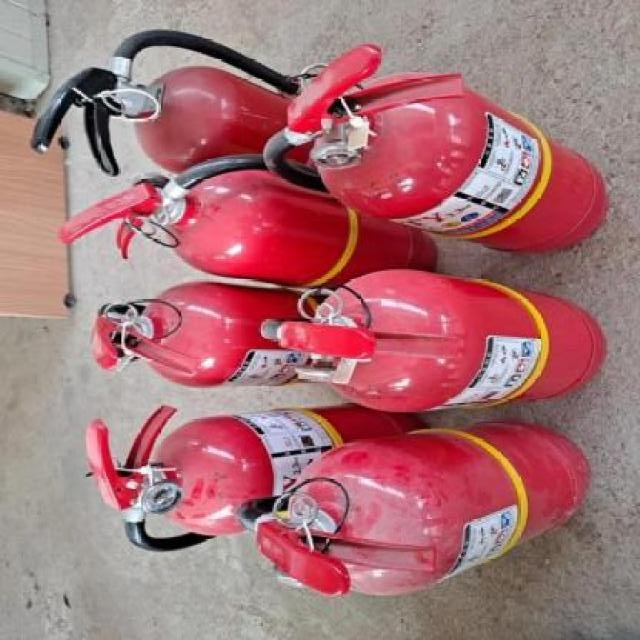fire extinguisher: (262, 43, 607, 255), (235, 418, 589, 597), (84, 403, 428, 552), (58, 155, 436, 290), (260, 269, 608, 413), (29, 29, 320, 176), (88, 280, 332, 388)
